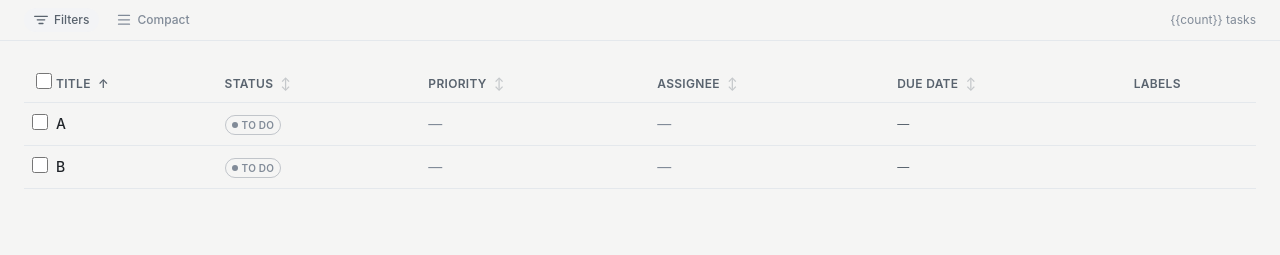
Test: ListView › select-all checkbox toggles all rows
The width and height of the screenshot is (1280, 255).
Step 1. Click the checkbox next to "Title" → (44, 81), box [36,73,52,89]
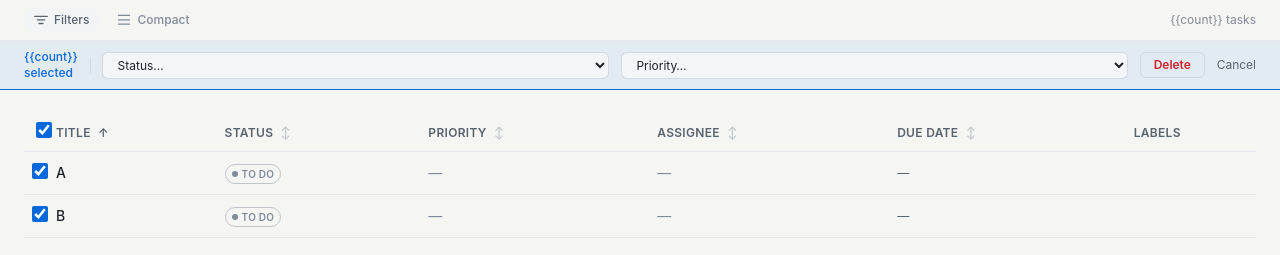
Result: the text "{{count}} selected" is shown at [24,49,78,81]
Step 2. Click the checkbox next to "Title" → (44, 130), box [36,122,52,138]
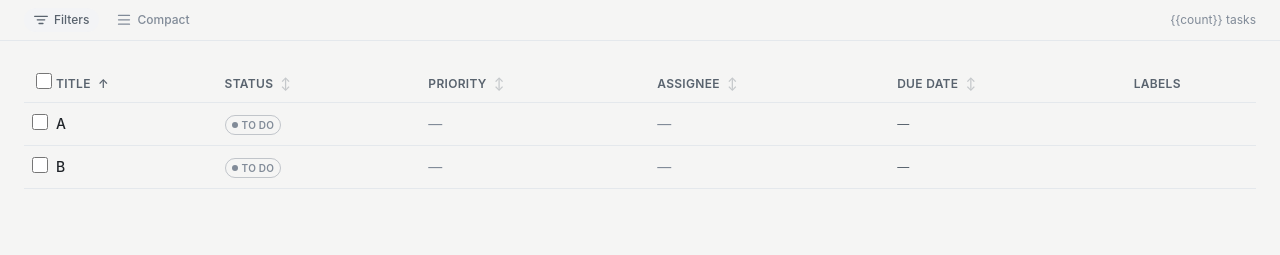
Result: the text "selected" is gone
